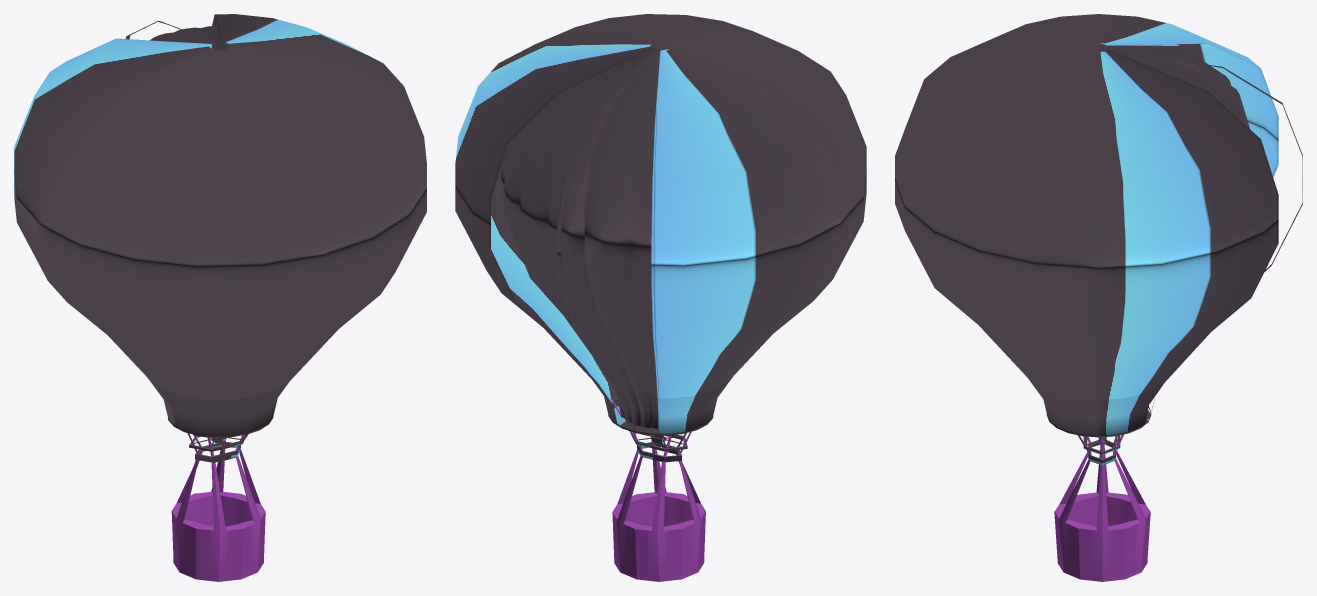
3 views of the same model, side by side, from view 1: azimuth 30°, elevation 25°; view 2: azimuth 150°, elevation 25°; view 3: azimuth 270°, elevation 25° (orthographic).
Visible parts, largest first — view 1: pCylinder1, pDisc1, pCube2; view 2: pCylinder1, pDisc1, pCube2; view 3: pCylinder1, pDisc1, pCube2.
Part boxes in pixels (box(x1,y1,x2,y2)): pCylinder1: box(14, 14, 426, 437); pDisc1: box(171, 433, 265, 581); pCube2: box(189, 435, 245, 462); pCylinder1: box(455, 14, 866, 435); pDisc1: box(610, 398, 705, 581); pCube2: box(631, 432, 687, 462); pCylinder1: box(895, 14, 1302, 437); pDisc1: box(1054, 434, 1150, 581); pCube2: box(1083, 435, 1120, 465).
Bounding box in the file's own units: 10777 × 14738 × 10572.
Materials: 2 (1 with a texture image).
